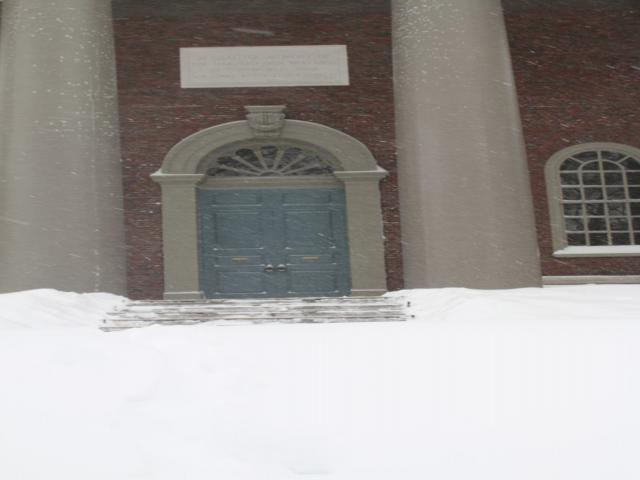Door-handle: (264, 264, 275, 271)
